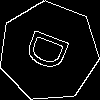D: (24, 27, 79, 77)
